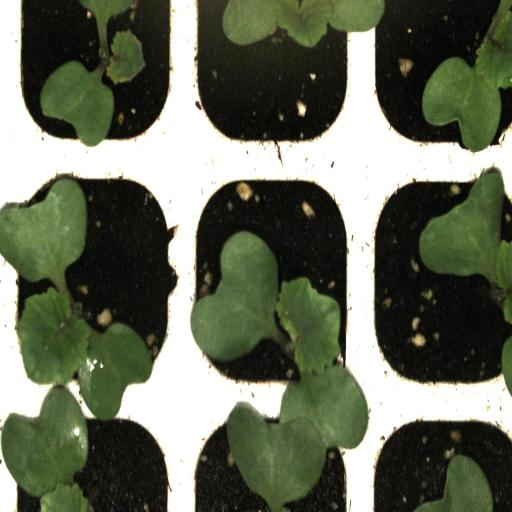Folha: (208, 0, 386, 57), (414, 453, 493, 512)
Germinacao: (187, 161, 361, 401), (6, 159, 178, 399), (362, 165, 512, 394), (7, 0, 182, 158), (362, 2, 512, 161)
